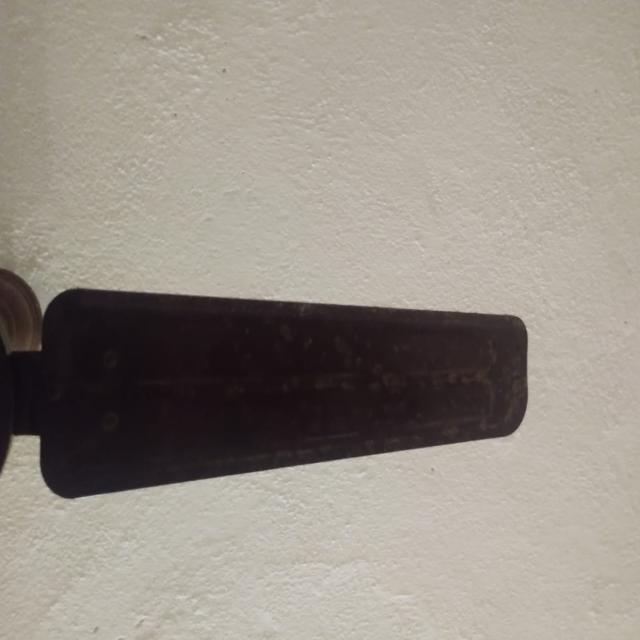fan_off: (3, 266, 531, 500)
